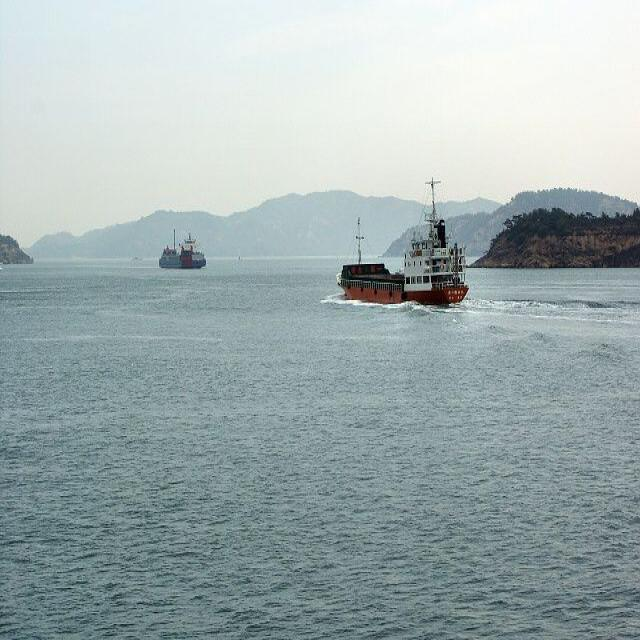cargoship: (336, 192, 468, 306), (158, 228, 206, 270)
